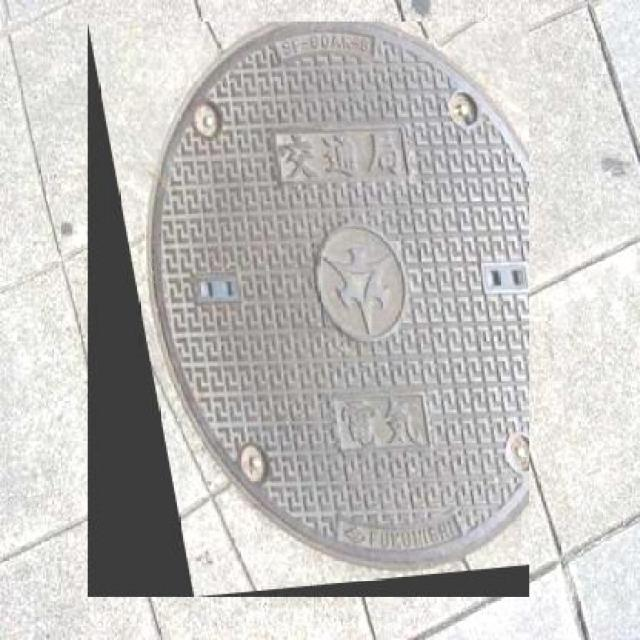Manhole: (88, 21, 530, 597)
